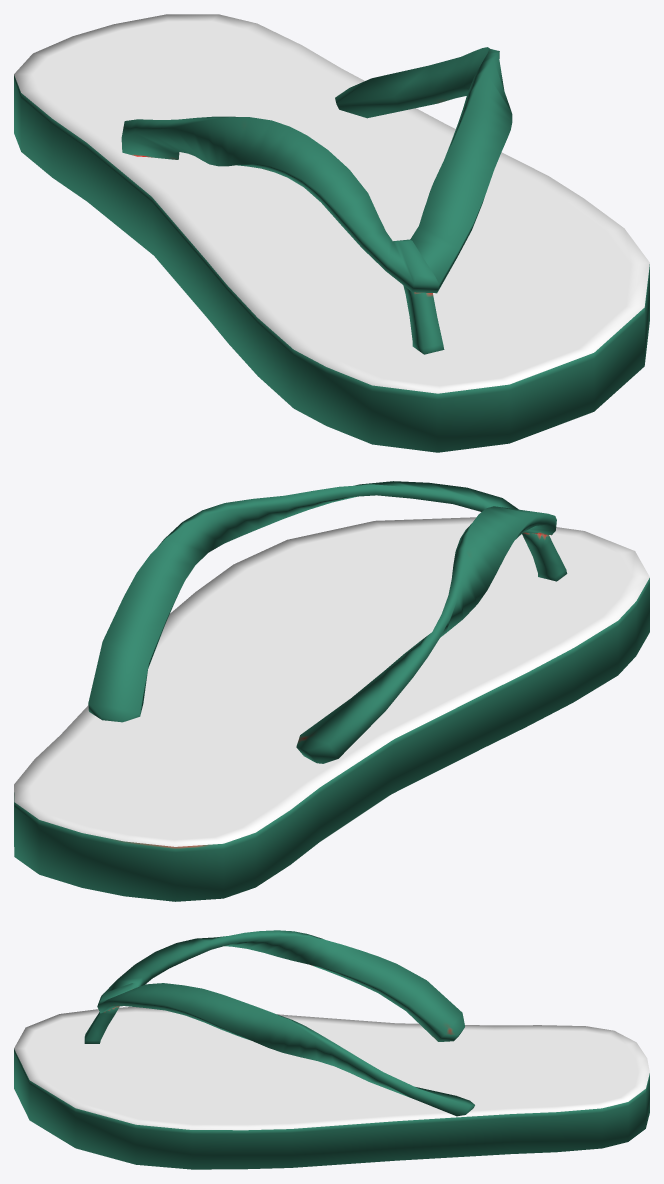
Rendered from Env_Sandal.fbx.
The picture shows the model from 3 angles, top to bottom: view 1: azimuth 30°, elevation 25°; view 2: azimuth 150°, elevation 25°; view 3: azimuth 270°, elevation 25°; orthographic projection. The views are drawn at different scales.
Visible parts, largest first — view 1: SM_Sandal; view 2: SM_Sandal; view 3: SM_Sandal.
Boxes of the visible parts, x1=… form: SM_Sandal: x1=14, y1=14, x2=649, y2=452; SM_Sandal: x1=14, y1=481, x2=649, y2=901; SM_Sandal: x1=14, y1=930, x2=649, y2=1169.
Size of the model in its own units: 862 by 453 by 1876.
1 material, 1 textured.
